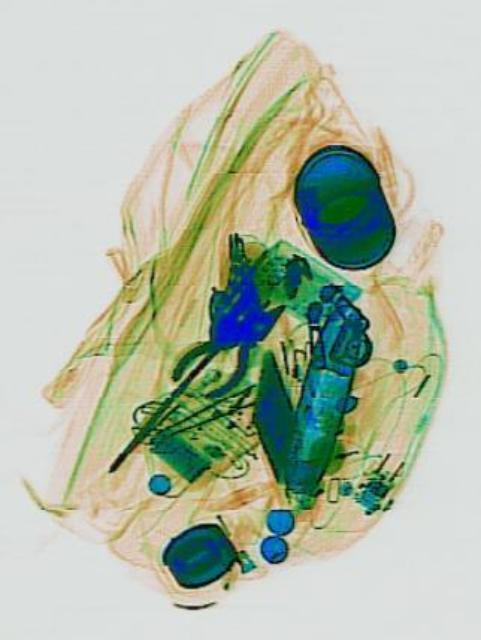Pliers: (162, 278, 295, 418)
